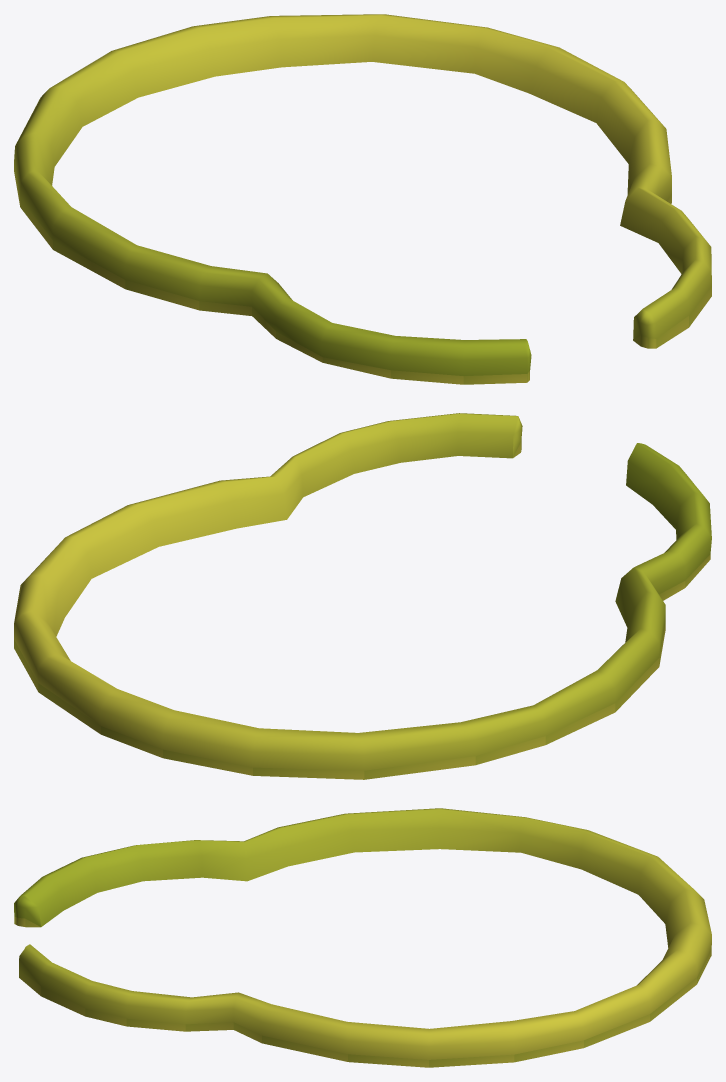
Rendered from SM_Y_01_Yard_13.fbx.
3 renders of one model, top to bottom at view 1: azimuth 30°, elevation 25°; view 2: azimuth 150°, elevation 25°; view 3: azimuth 270°, elevation 25°, orthographic. The views are drawn at different scales.
Visible parts, largest first — view 1: SM_Y_01_Yard_13; view 2: SM_Y_01_Yard_13; view 3: SM_Y_01_Yard_13.
Boxes of the visible parts, x1,y1,x2,y2 form: SM_Y_01_Yard_13: (14, 14, 711, 384); SM_Y_01_Yard_13: (14, 413, 711, 779); SM_Y_01_Yard_13: (14, 808, 711, 1067).
Bounding box in the file's own units: 2551 × 168 × 3223.
